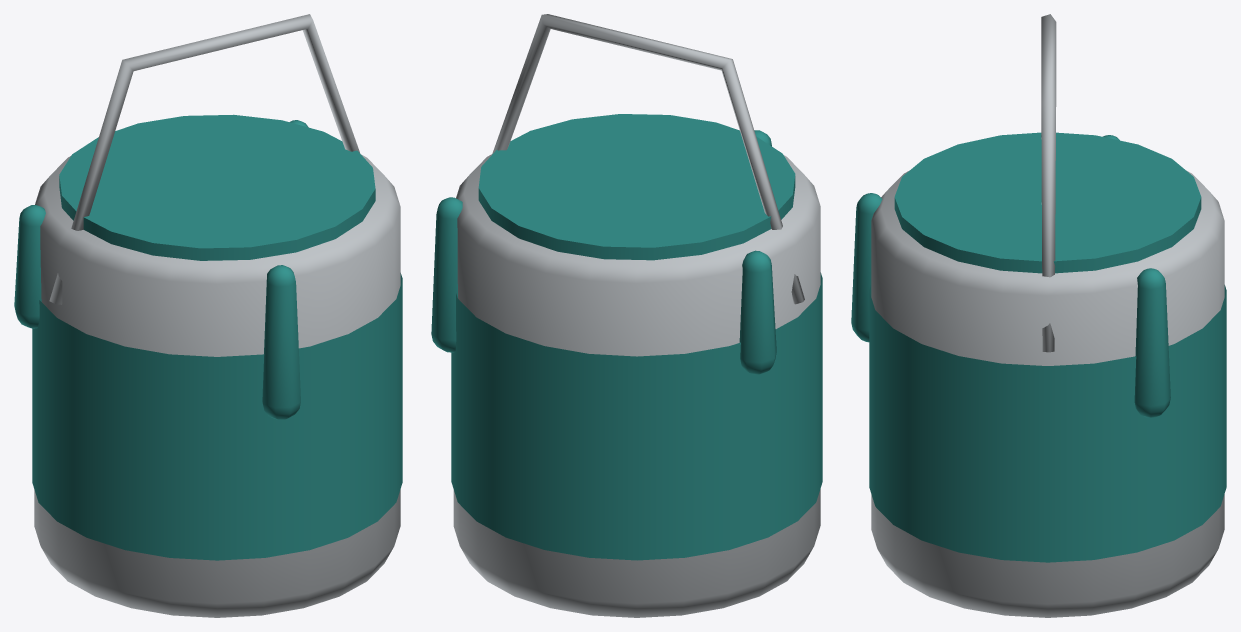
The model's file is paint_tin_teal.fbx.
The picture shows the model from 3 angles, left to right: view 1: azimuth 30°, elevation 25°; view 2: azimuth 150°, elevation 25°; view 3: azimuth 270°, elevation 25°; orthographic projection. The views are drawn at different scales.
Visible parts, largest first — view 1: paint_tin_teal; view 2: paint_tin_teal; view 3: paint_tin_teal.
Part boxes in pixels (<box>): paint_tin_teal: <box>14,14,402,617</box>; paint_tin_teal: <box>431,14,822,617</box>; paint_tin_teal: <box>851,14,1226,617</box>.
Bounding box in the file's own units: 0.1124 × 0.1619 × 0.1126.
